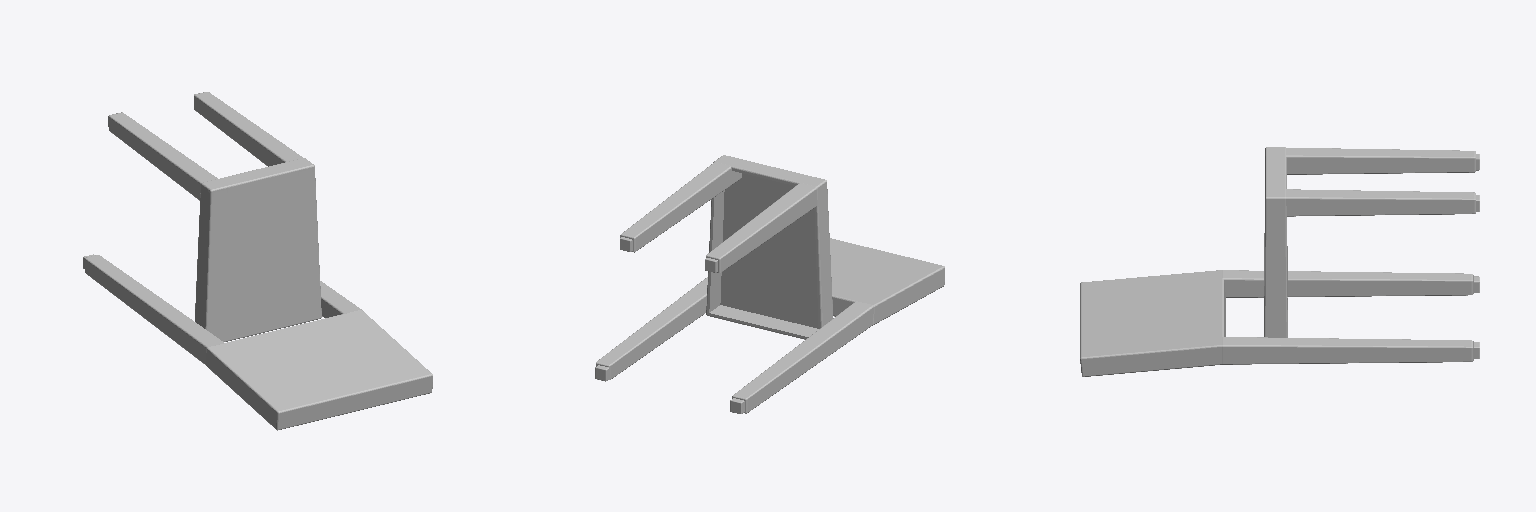
The picture shows the model from 3 angles: view 1: azimuth 30°, elevation 25°; view 2: azimuth 150°, elevation 25°; view 3: azimuth 270°, elevation 25°; orthographic projection.
Visible parts, largest first — view 1: la marie chair philippe starck; view 2: la marie chair philippe starck; view 3: la marie chair philippe starck.
Boxes of the visible parts, <box> form: la marie chair philippe starck: <box>83,92,432,430</box>; la marie chair philippe starck: <box>595,155,944,413</box>; la marie chair philippe starck: <box>1080,147,1479,376</box>.
Bounding box in the file's own units: 4926 × 5049 × 10930.